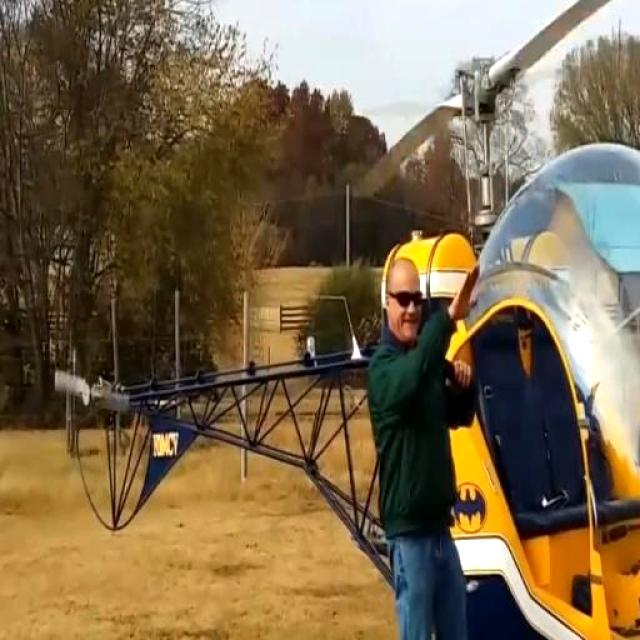drone: (39, 0, 640, 640)
